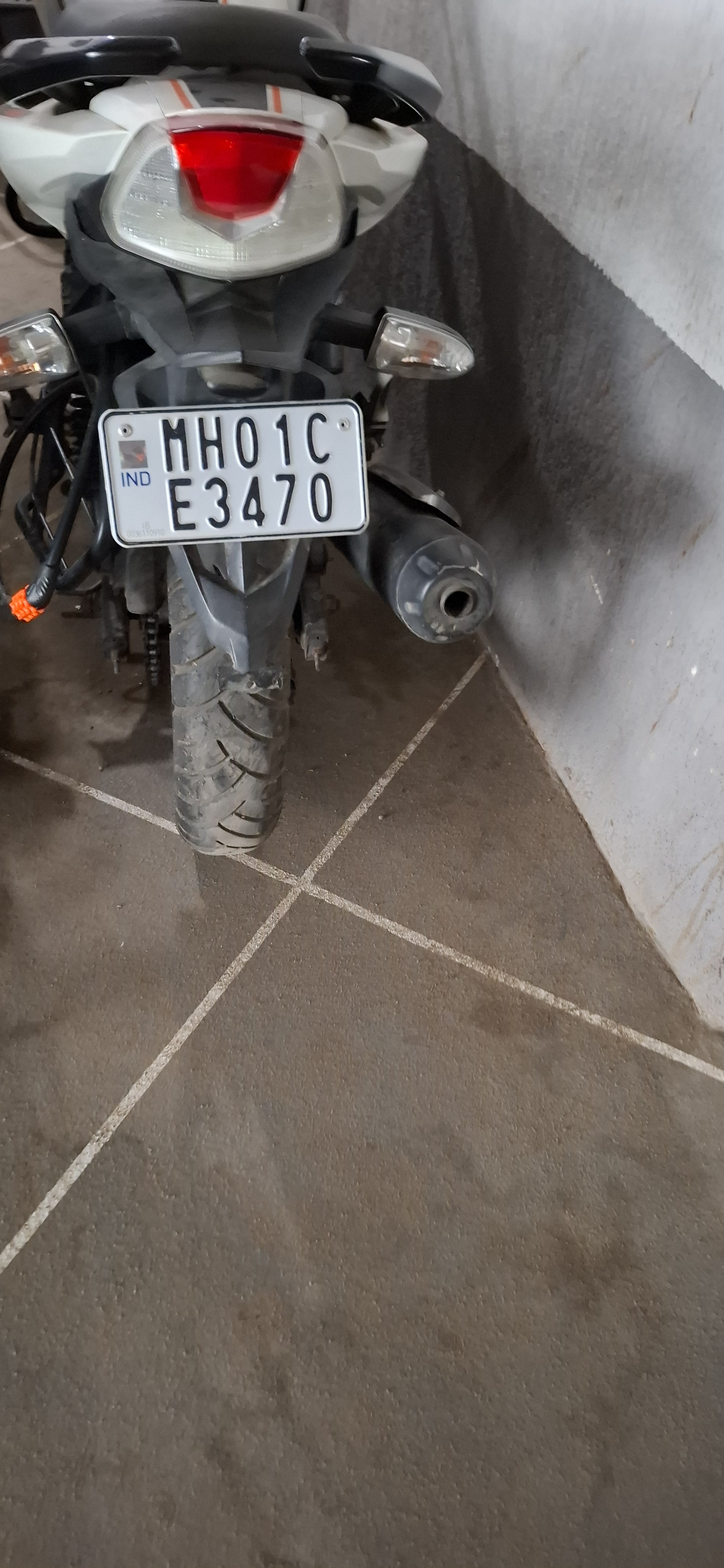license_plate: (0, 2, 484, 852)
